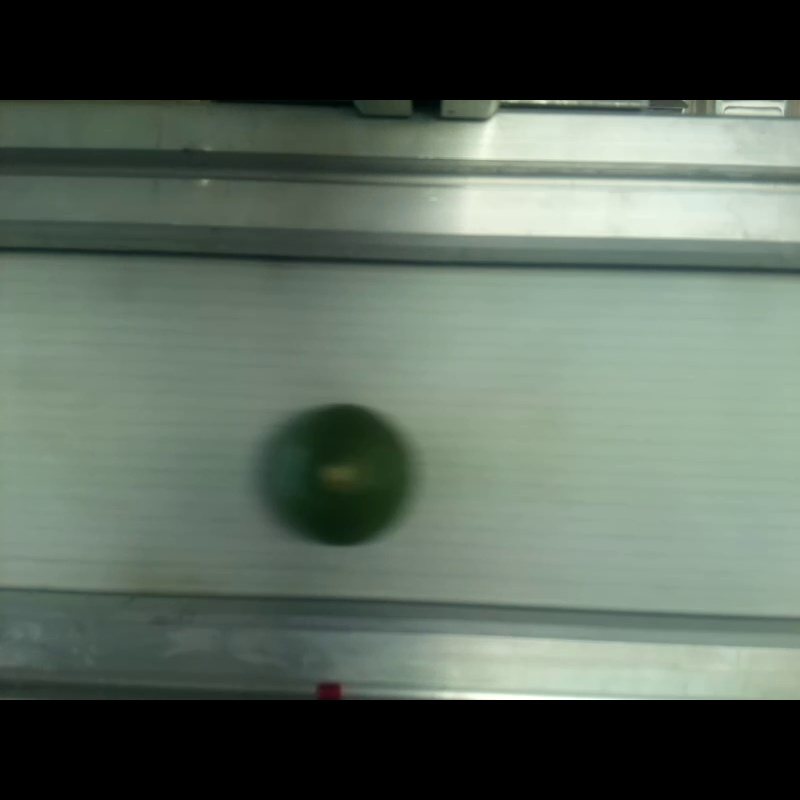lime: (268, 402, 407, 545)
